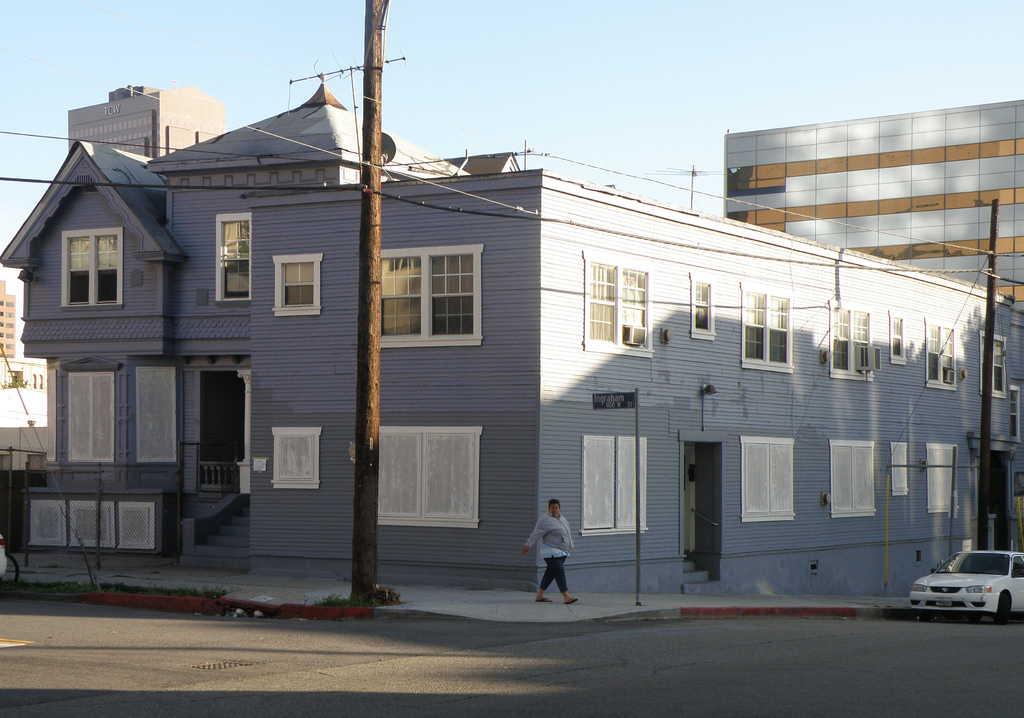Car: (900, 554, 1023, 632)
